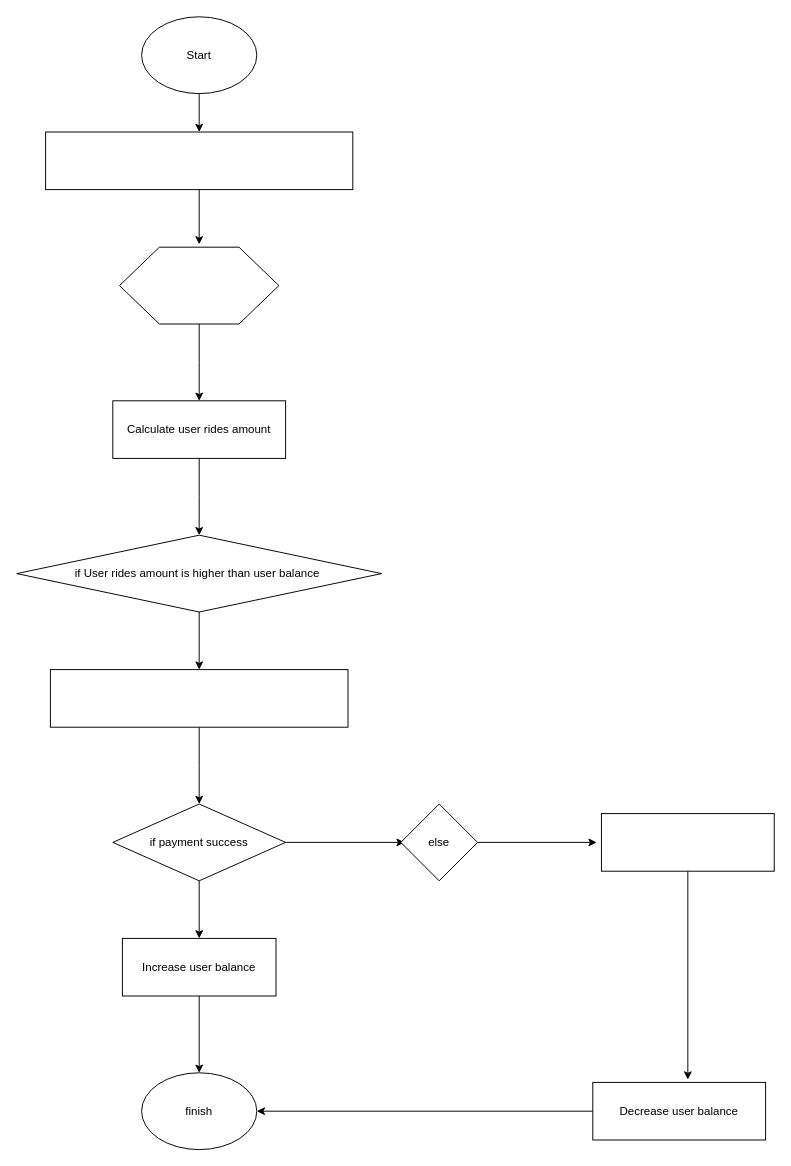
Some shapes in this 791 by 1166 pixel diagram are drawn without their labels. The centre of each missing label's shape, as x and y in pixels:
"Close the users all rides" goes at [687,842].
"Each per ride" goes at [199,285].
"Get active rides group by user ids" goes at [199,160].
"Try make payment for increase balance" goes at [198,698].
